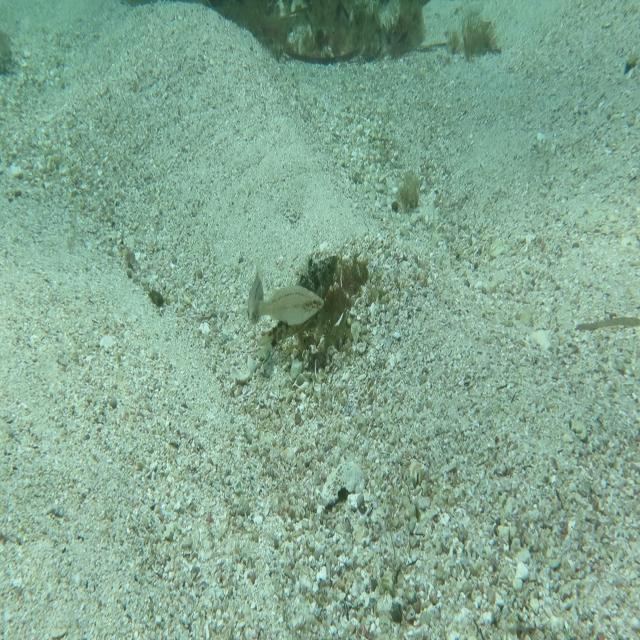ROLL: (250, 246, 343, 359)
female: (243, 253, 267, 330)
nest: (281, 248, 377, 368)
other_fish: (250, 278, 324, 328)
